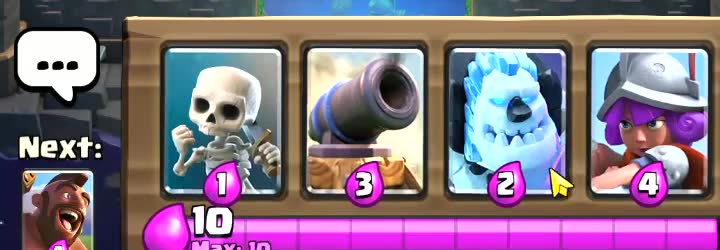cannon: (308, 56, 414, 198)
hog-rider: (23, 171, 92, 250)
musketeer: (596, 46, 710, 201)
